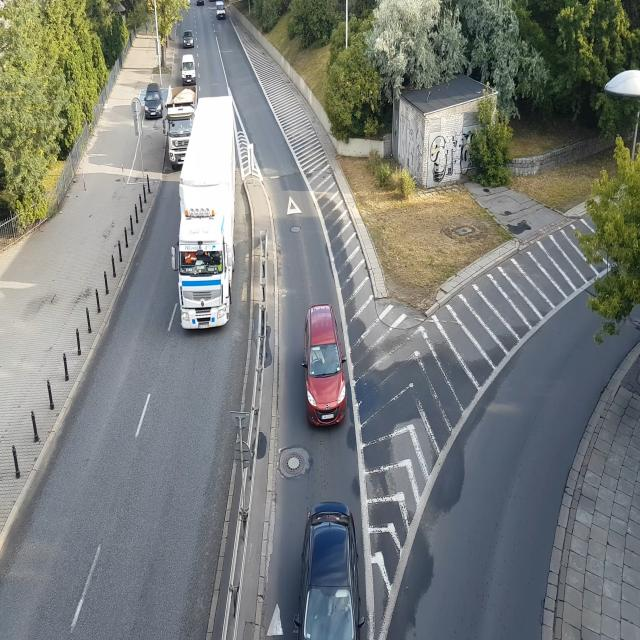car: (302, 498, 368, 640), (300, 300, 351, 432), (143, 88, 166, 120), (182, 55, 198, 86), (183, 32, 197, 47), (216, 5, 227, 20)
truck: (180, 101, 236, 329), (164, 108, 195, 171)
